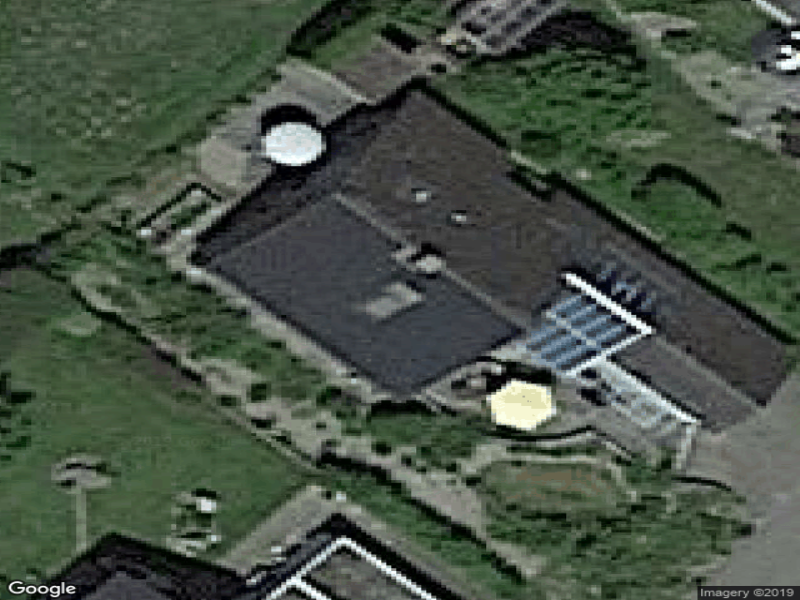pv: (212, 200, 524, 400)
